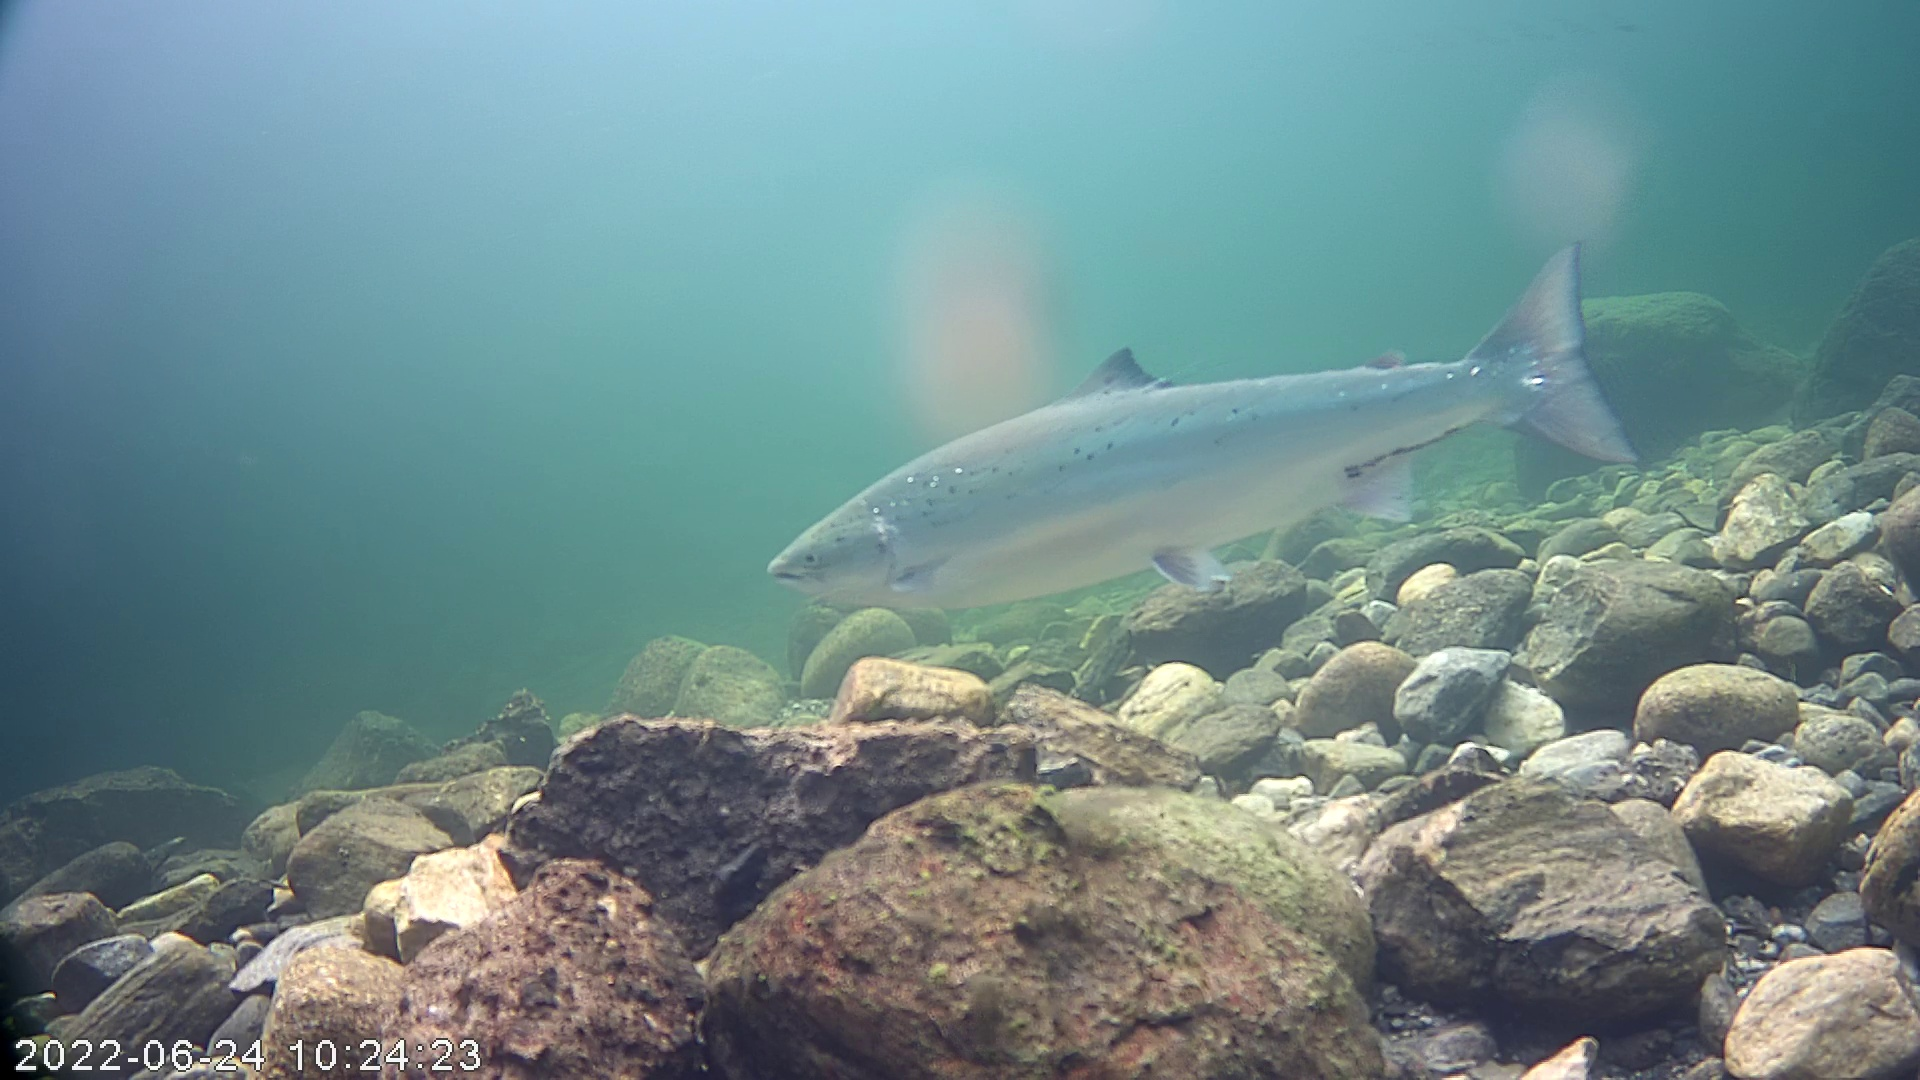salmon: (764, 241, 1636, 616)
